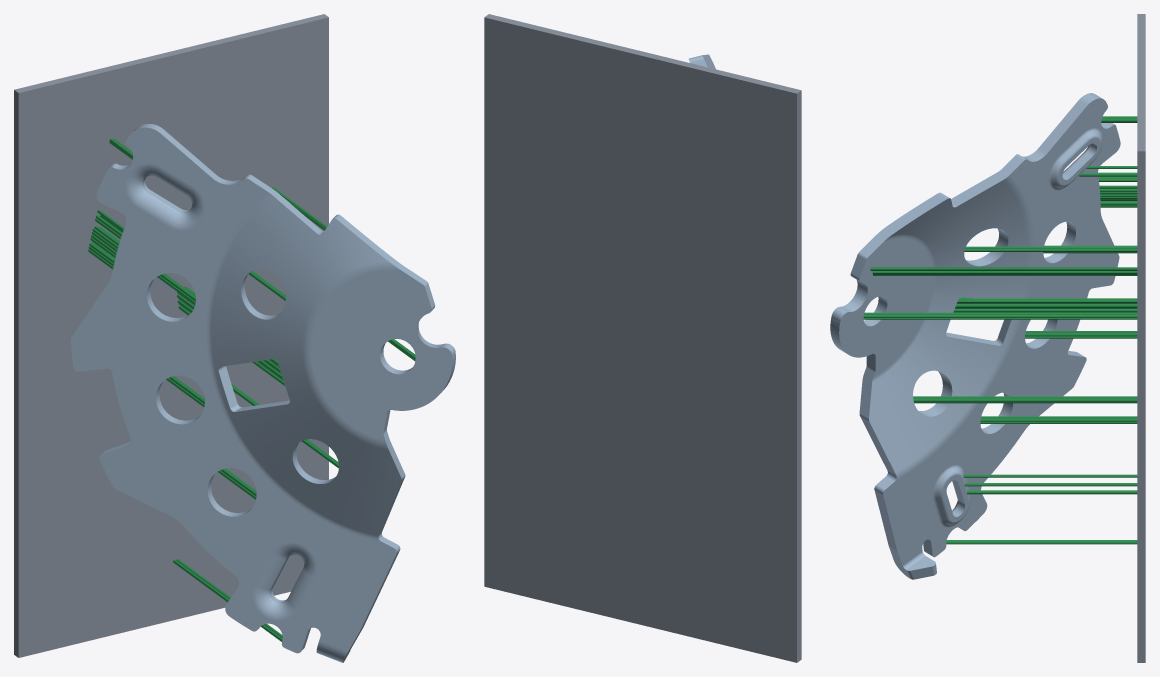
Rendered from 03_best_pose_our_support.obj.
The picture shows the model from 3 angles, left to right: view 1: azimuth 30°, elevation 25°; view 2: azimuth 150°, elevation 25°; view 3: azimuth 270°, elevation 25°; orthographic projection. The views are drawn at different scales.
Visible parts, largest first — view 1: Part, BuildPlate, SimplifiedSupportColumns; view 2: BuildPlate; view 3: Part, SimplifiedSupportColumns, BuildPlate.
Part boxes in pixels (x1,y1,x2,y2): Part: (71, 124, 455, 662); BuildPlate: (14, 14, 328, 657); SimplifiedSupportColumns: (88, 138, 415, 641); BuildPlate: (484, 14, 801, 662); Part: (830, 93, 1120, 579); SimplifiedSupportColumns: (863, 116, 1137, 544); BuildPlate: (1137, 14, 1145, 662).
Size of the model in its own units: 77.82 by 135 by 75.56.
